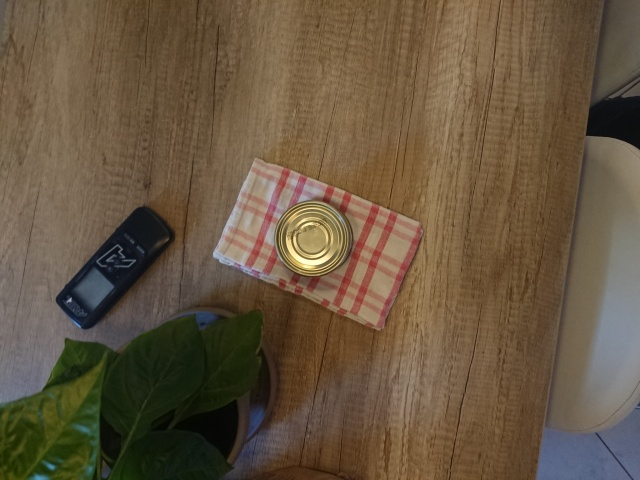Giana Tuna Salad Mexico 185g: (273, 198, 356, 279)
